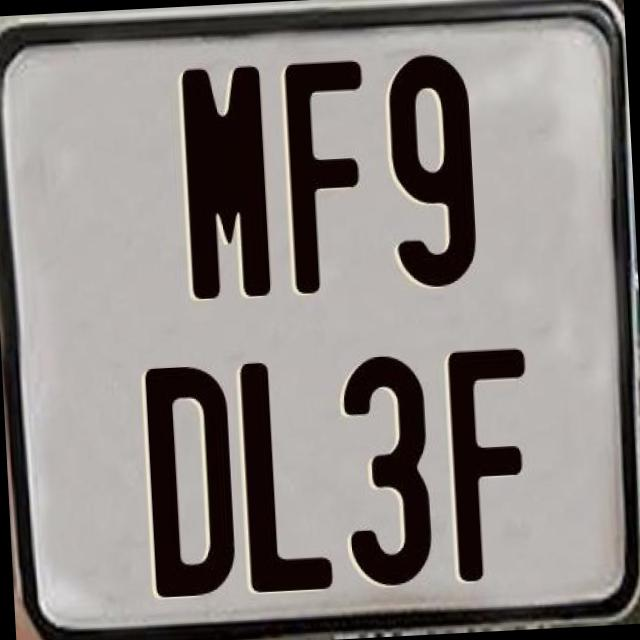3: (339, 354, 434, 597)
9: (382, 51, 476, 297)
D: (142, 362, 237, 596)
F: (282, 60, 378, 304), (444, 344, 538, 588)
L: (237, 357, 336, 598)
M: (178, 64, 270, 306)
